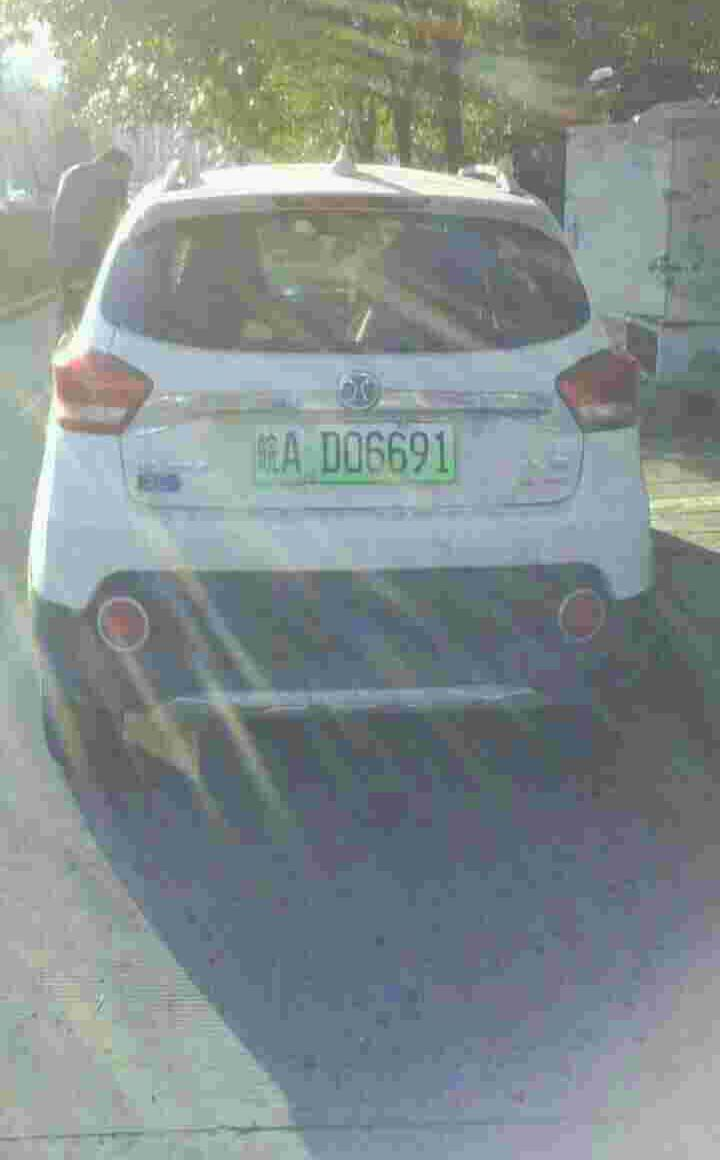car: (239, 428, 465, 491)
